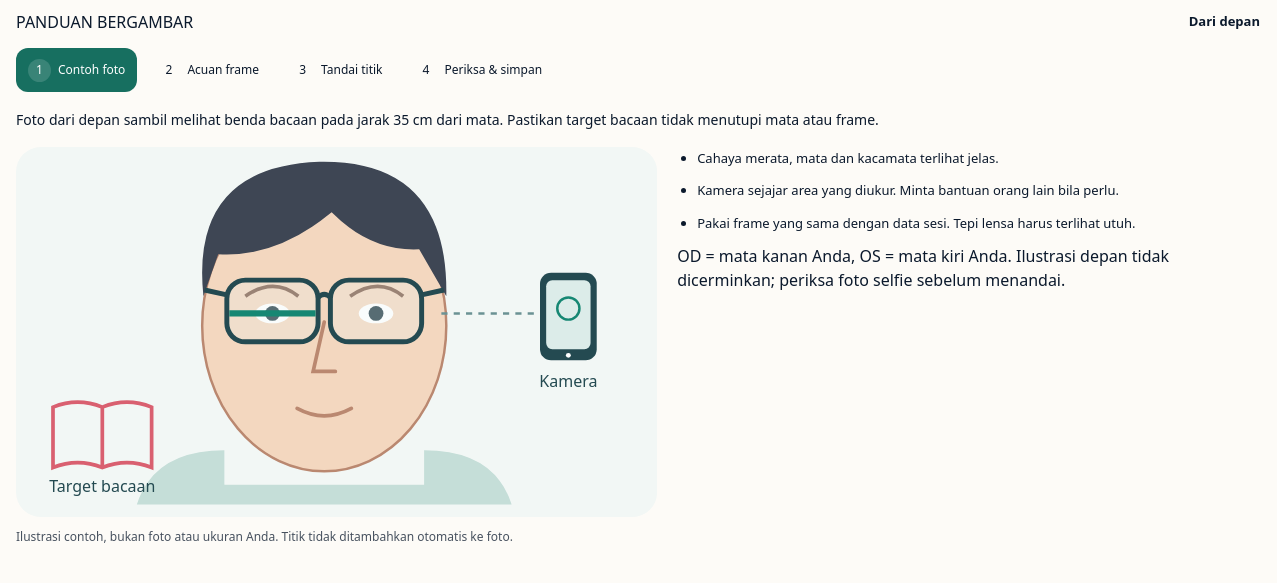
it: photo, reference and landmark examples are separate and never insert sample points into customer data
This screenshot has width=1277, height=583.
Click the button "2 Acuan frame": (208, 70) [145,48,271,92]
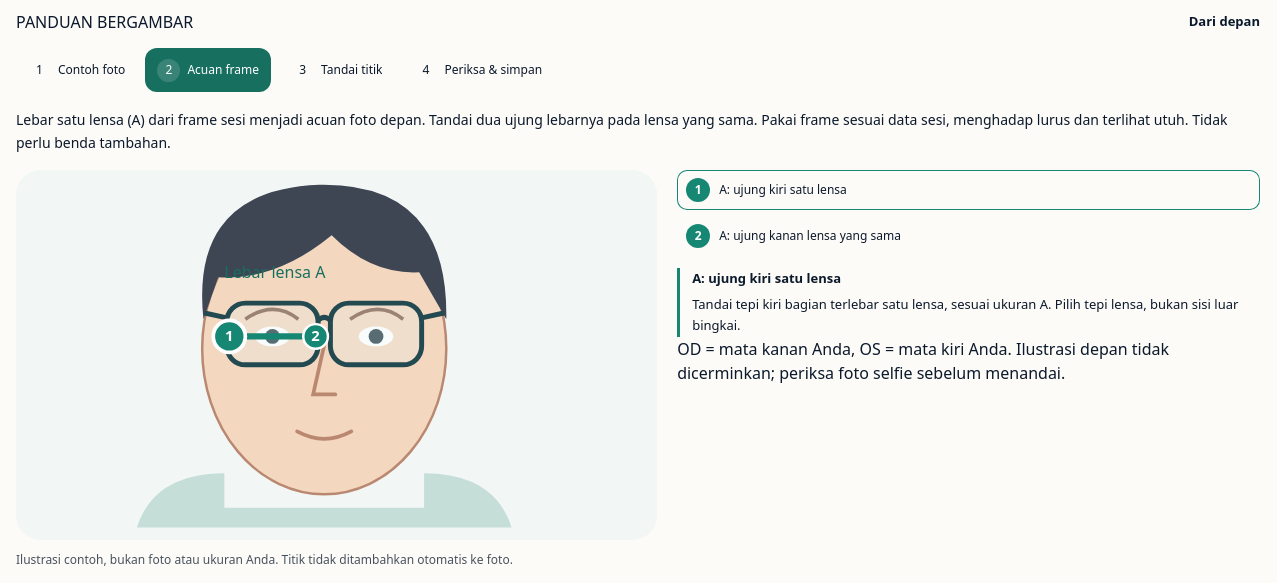
Click the button "3 Tandai titik": (337, 70) [279,48,395,92]
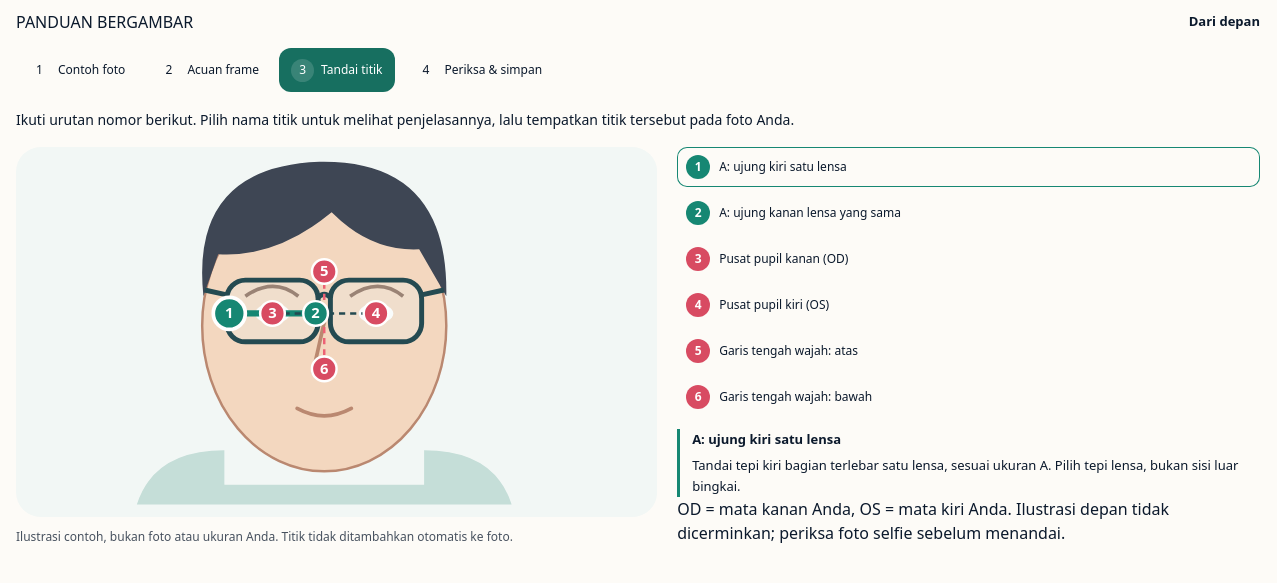
Click the button "3 Pusat pupil kanan (OD)": (784, 259) [677,239,1260,279]
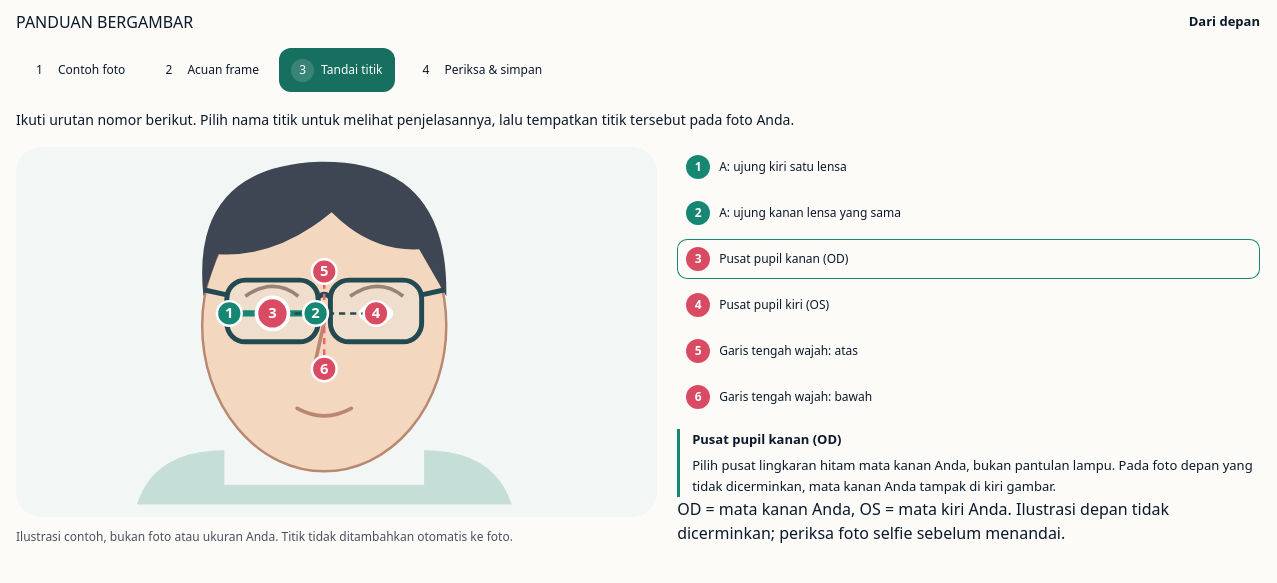
Check: the element with class "of-illustration-detail" shows "bukan pantulan lampu", box [692,456,1253,495]
